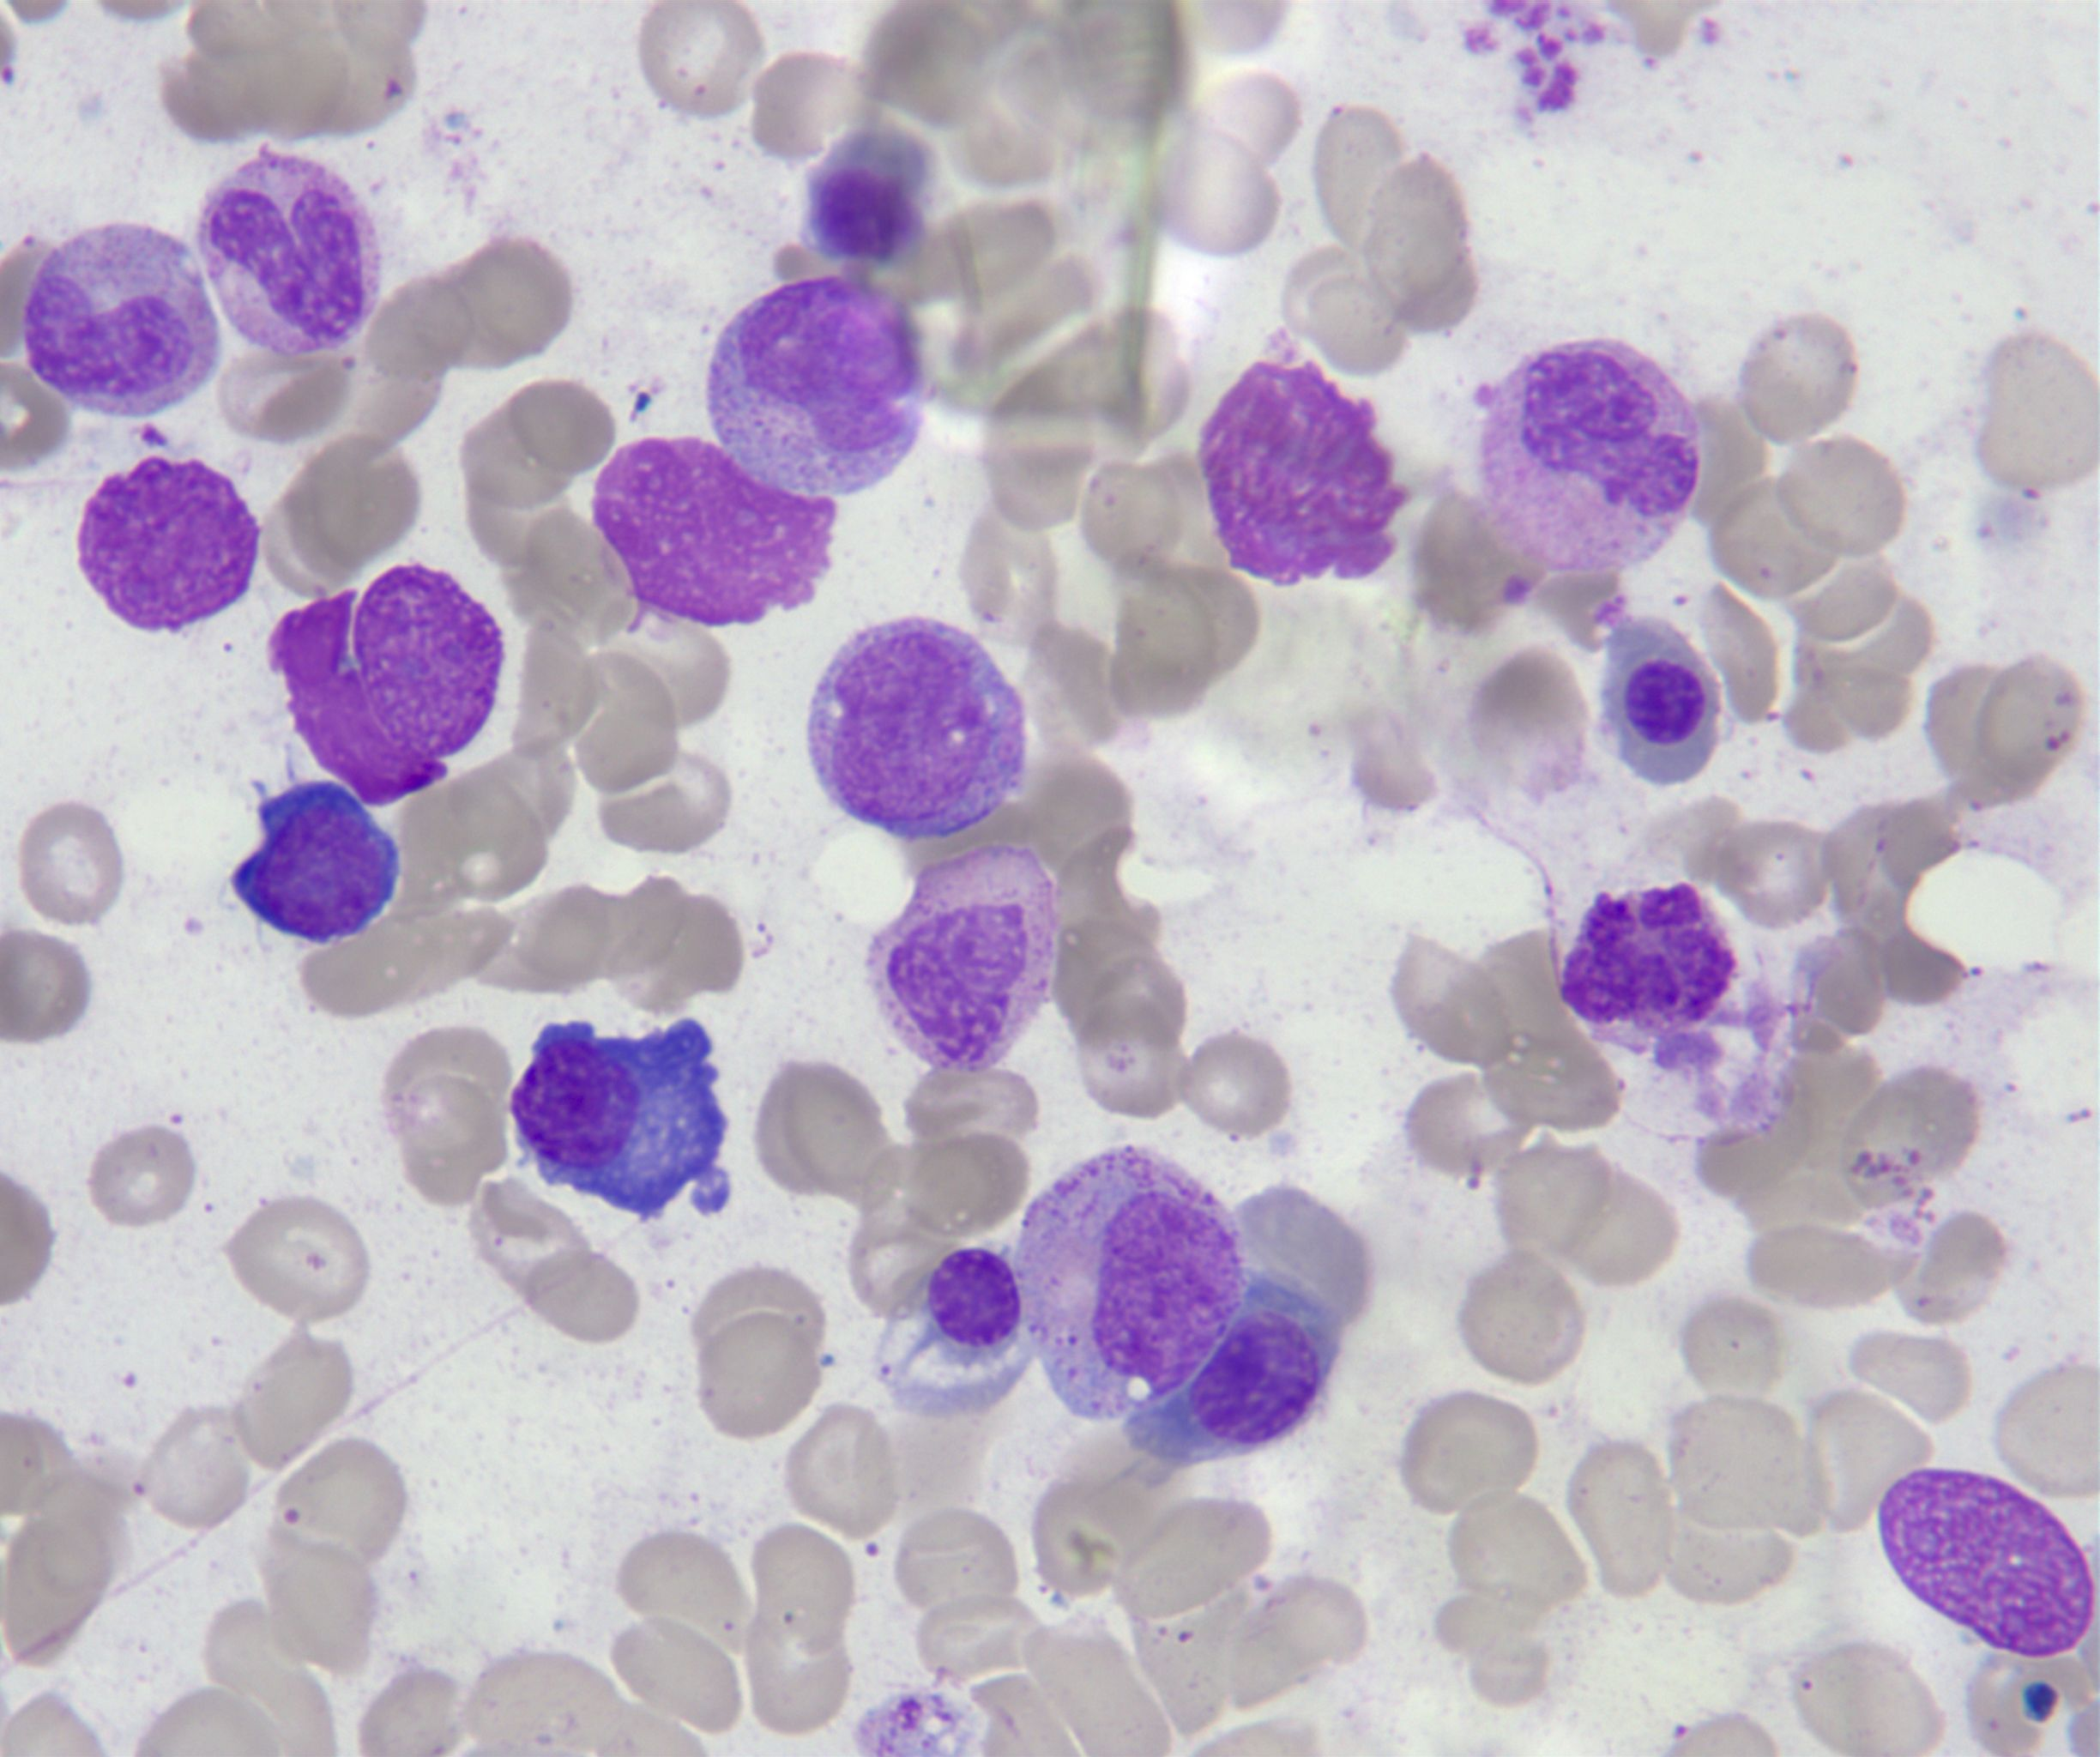22: (228, 783, 398, 942)
23: (1125, 1267, 1338, 1467)
24: (874, 1235, 1034, 1415), (1601, 616, 1720, 787), (802, 126, 935, 265)
3: (1015, 1143, 1247, 1420), (806, 618, 1026, 839), (708, 277, 924, 499)
4: (865, 846, 1060, 1073), (23, 222, 218, 415)
5: (1479, 340, 1702, 572), (195, 141, 382, 356)
52: (509, 1019, 727, 1220)
x: (269, 565, 502, 808), (1198, 325, 1415, 586), (593, 436, 834, 628), (1878, 1471, 2093, 1658), (1559, 881, 1737, 1064), (78, 454, 260, 632)
